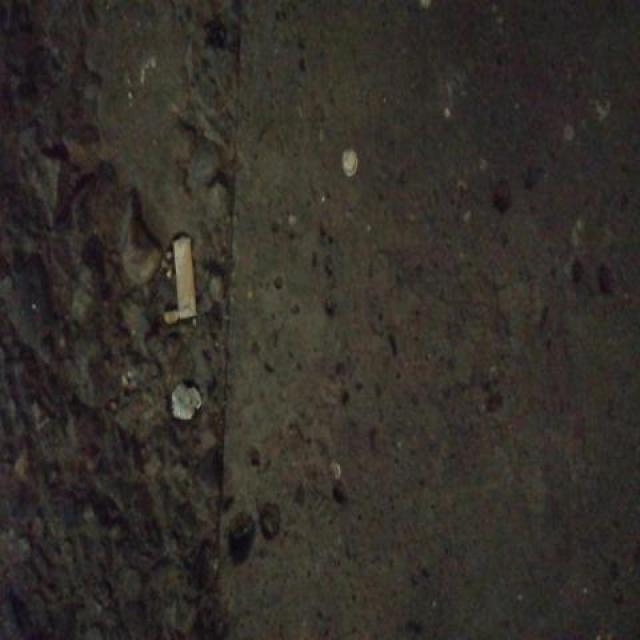non-organic waste: (168, 230, 200, 322)
